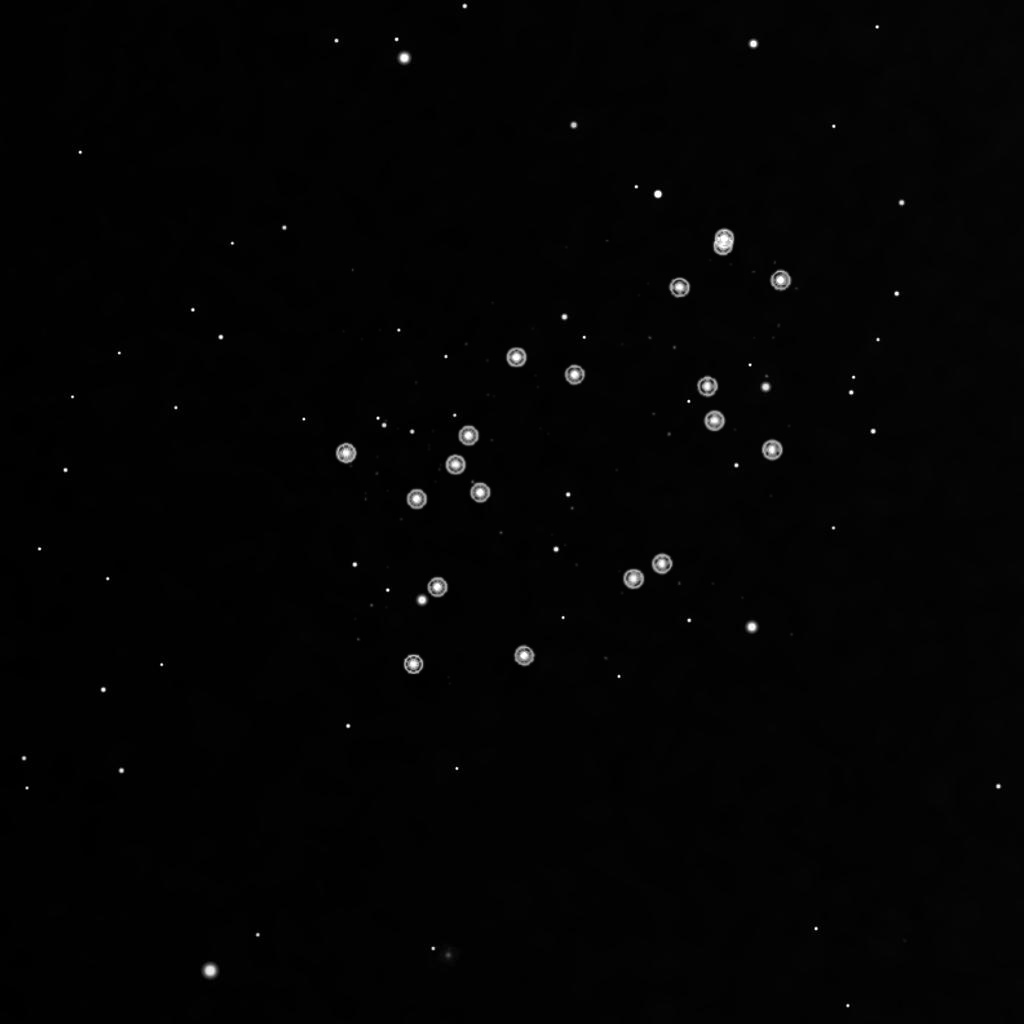canis_major: (397, 338, 593, 522)
